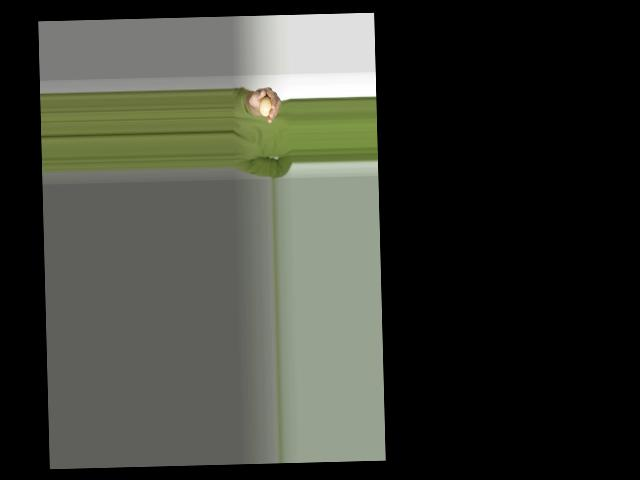egg: (259, 96, 272, 117)
